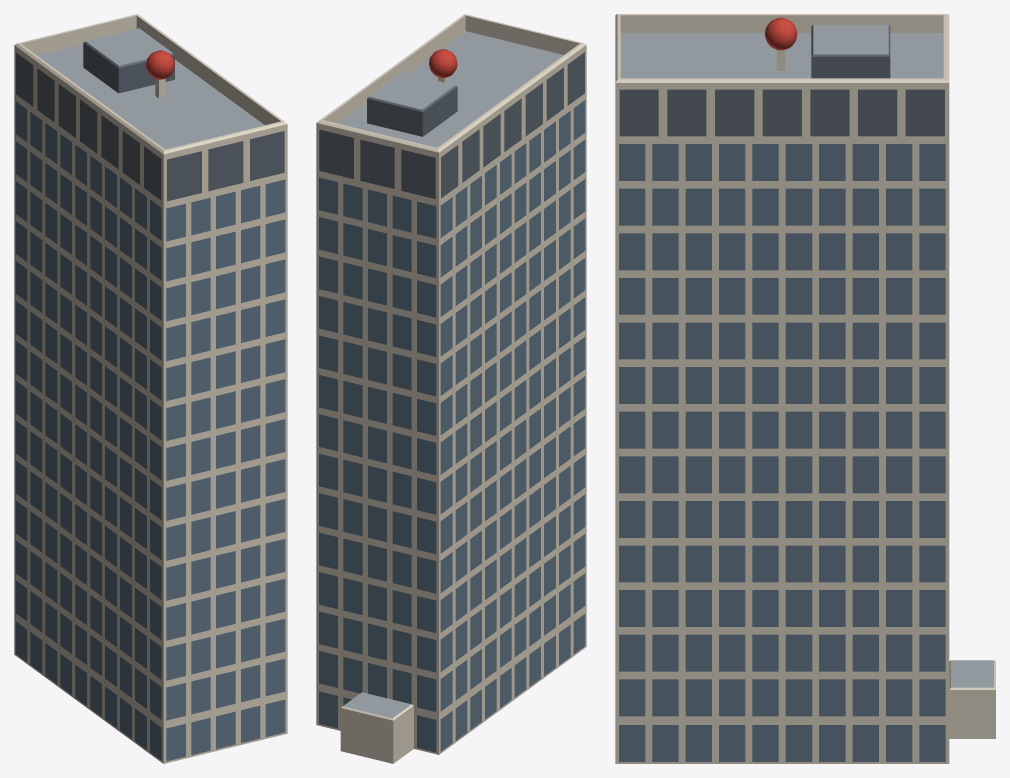
The model's file is kc-commerce-tower.glb.
3 views of the same model, side by side, from view 1: azimuth 30°, elevation 25°; view 2: azimuth 150°, elevation 25°; view 3: azimuth 270°, elevation 25° (orthographic). The views are drawn at different scales.
Parts seen in each view (by area): view 1: Commerce Tower; view 2: Commerce Tower; view 3: Commerce Tower.
Boxes of the visible parts, x1,y1,x2,y2 form: Commerce Tower: (14, 14, 287, 763); Commerce Tower: (316, 14, 586, 763); Commerce Tower: (615, 14, 995, 763).
Size of the model in its own units: 26.5 by 130 by 62.75.
